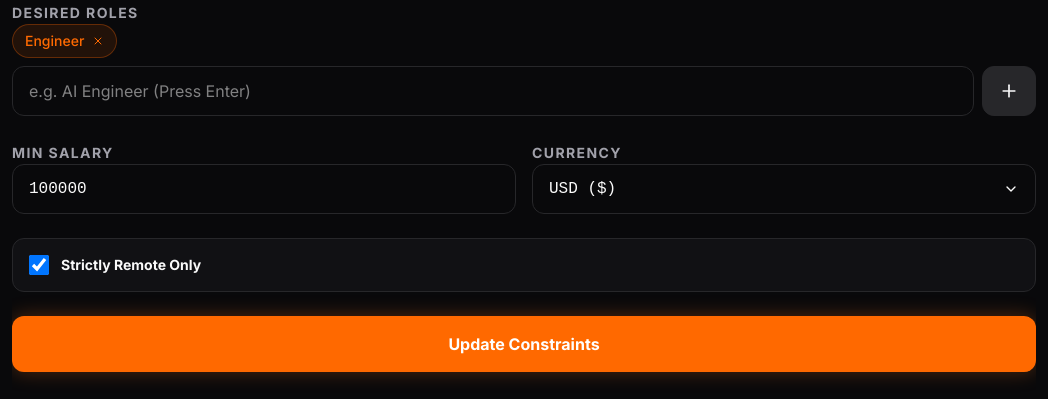
Test: ProfileSettingsForm › shows the success state on a successful save
Click the button "Update Constraints" at (524, 344), box [12,316,1036,372]
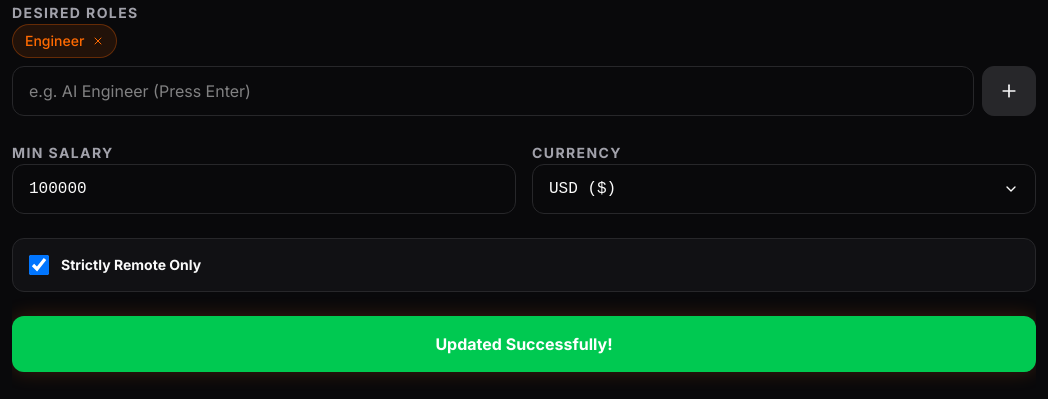
Expected: the button "Updated Successfully!" is shown, [12,316,1036,372]
